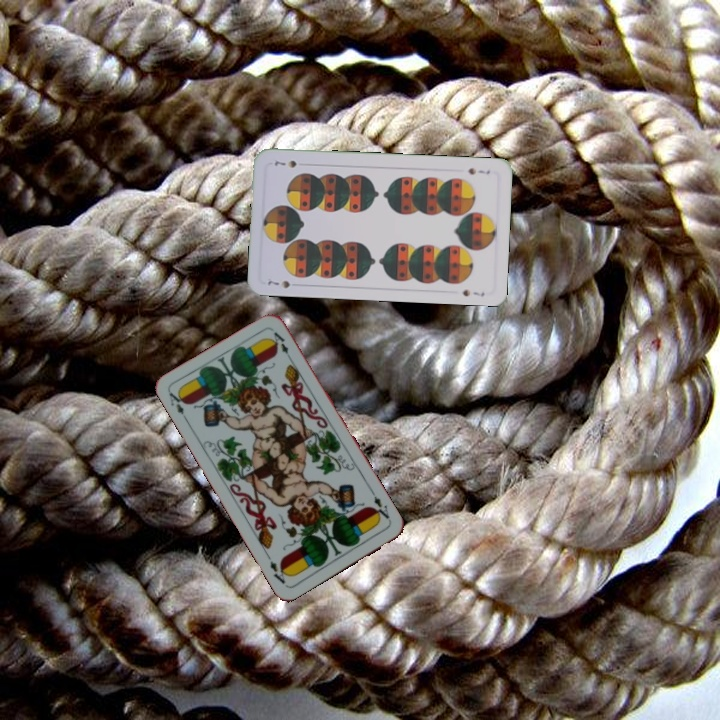EA: (165, 387, 191, 425), (367, 487, 393, 524)
S7: (264, 276, 292, 291), (464, 164, 492, 177)
